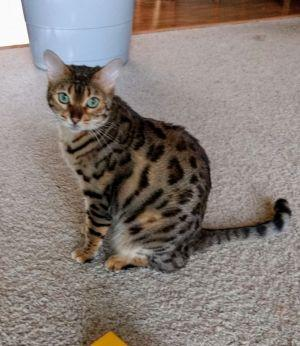bengal: (40, 46, 126, 139)
